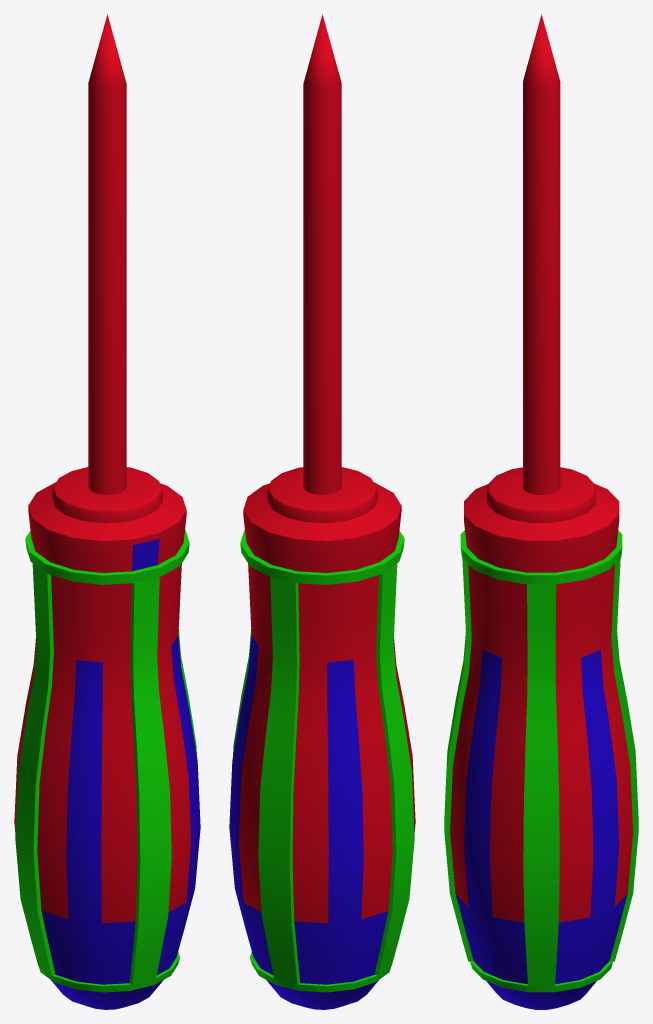
File: Screwdriver 4.fbx
3 views of the same model, side by side, from view 1: azimuth 30°, elevation 25°; view 2: azimuth 150°, elevation 25°; view 3: azimuth 270°, elevation 25° (orthographic).
Visible parts, largest first — view 1: Cylinder; view 2: Cylinder; view 3: Cylinder.
Part boxes in pixels (x1=…): Cylinder: x1=14, y1=14, x2=200, y2=1009; Cylinder: x1=229, y1=14, x2=415, y2=1009; Cylinder: x1=444, y1=14, x2=638, y2=1009.
Bounding box in the file's own units: 23.18 × 132 × 23.49.
